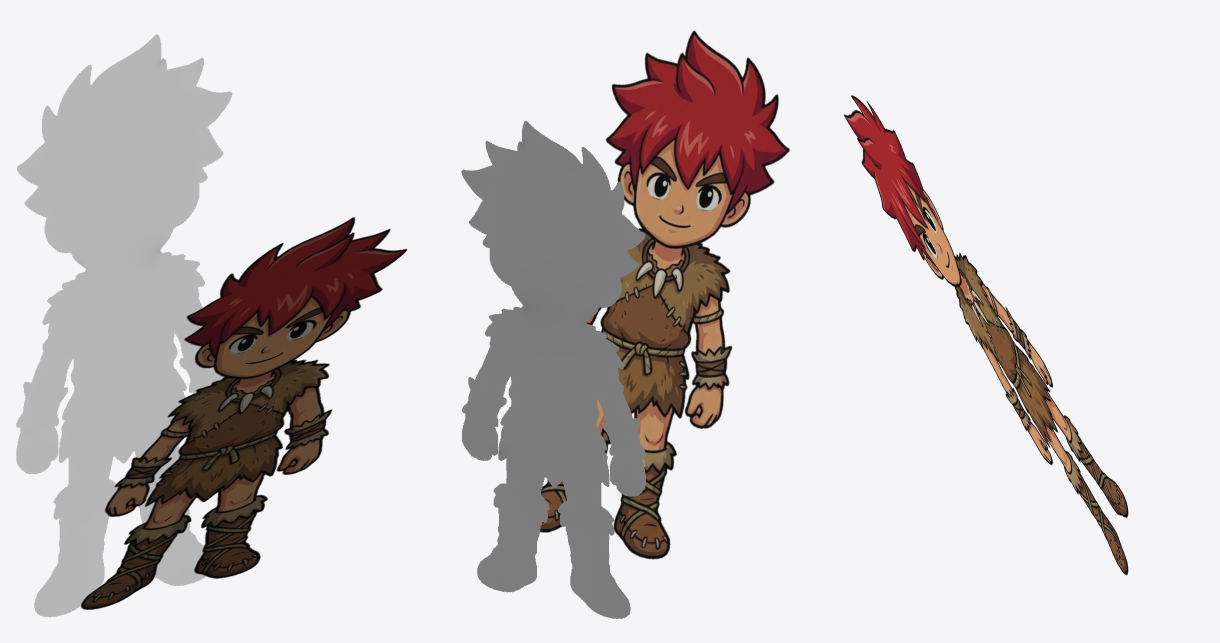
Rendered from Generated Image December 01, 2025 - 9_03PM_pixian_ai.glb.
3 renders of one model, left to right at view 1: azimuth 30°, elevation 25°; view 2: azimuth 150°, elevation 25°; view 3: azimuth 270°, elevation 25°, orthographic. The views are drawn at different scales.
Parts seen in each view (by area): view 1: mesh_id1, mesh_id31; view 2: mesh_id1, mesh_id31; view 3: mesh_id31.
Part boxes in pixels (left/top/right/bottom): mesh_id1: left=16, top=34, right=232, bottom=617; mesh_id31: left=80, top=217, right=407, bottom=609; mesh_id1: left=461, top=120, right=645, bottom=618; mesh_id31: left=539, top=30, right=789, bottom=559; mesh_id31: left=843, top=95, right=1128, bottom=575.
Size of the model in its own units: 0.321 by 0.776 by 0.4948.
Materials: 2 (2 with a texture image).
